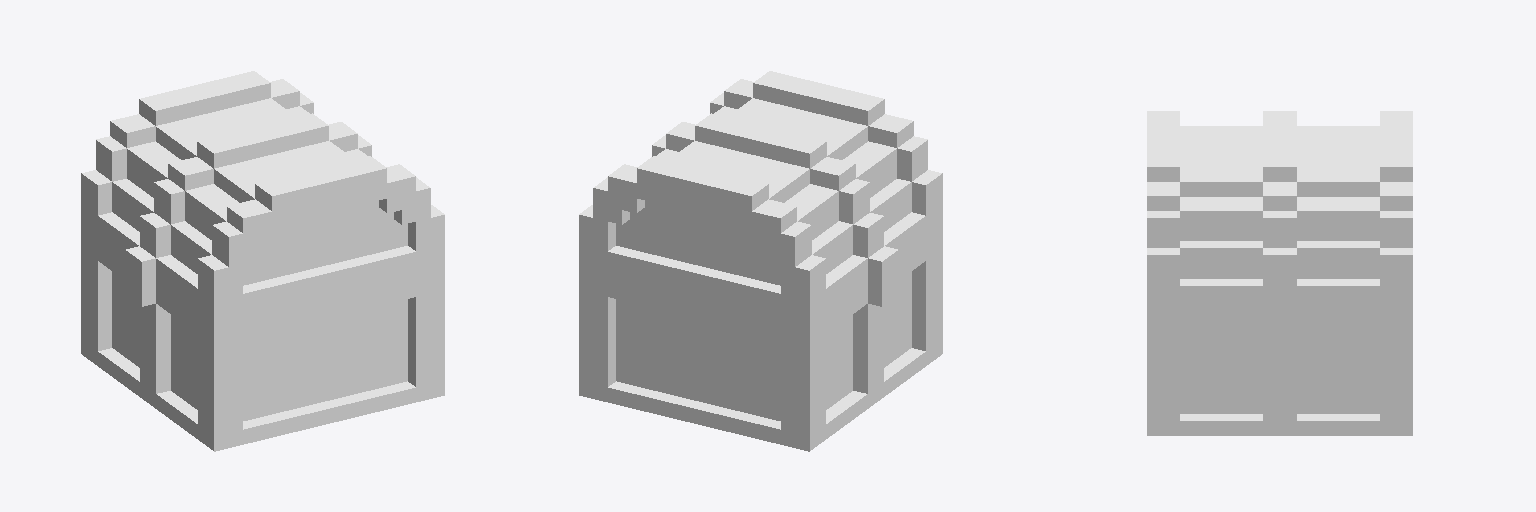
Rendered from ChestObject.obj.
3 renders of one model, left to right at view 1: azimuth 30°, elevation 25°; view 2: azimuth 150°, elevation 25°; view 3: azimuth 270°, elevation 25°, orthographic.
Visible parts, largest first — view 1: object 1; view 2: object 1; view 3: object 1.
Part boxes in pixels (x1,y1,x2,y2): object 1: (81, 71, 444, 451); object 1: (579, 71, 942, 451); object 1: (1147, 111, 1412, 435).
Size of the model in its own units: 1.7 by 1.6 by 1.6.